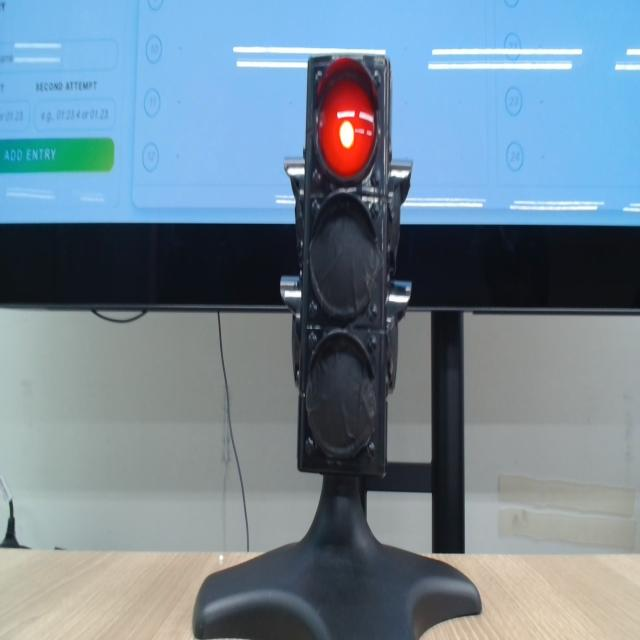red_light: (318, 76, 376, 180)
